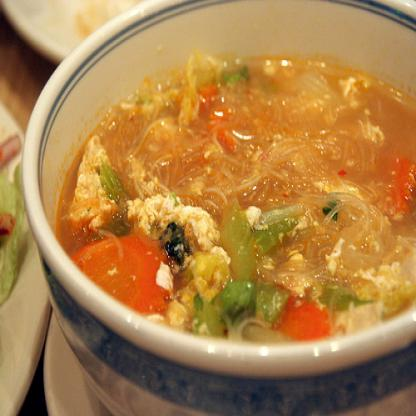Suki: (68, 19, 415, 375)
